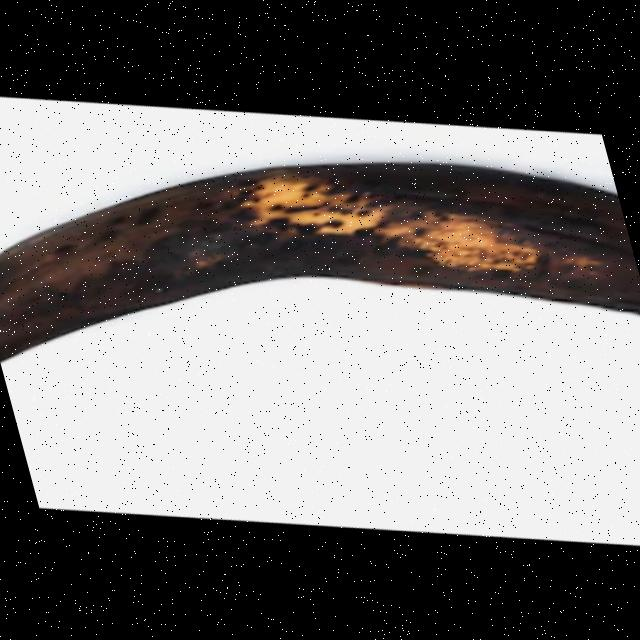Rotten: (0, 74, 640, 479)
